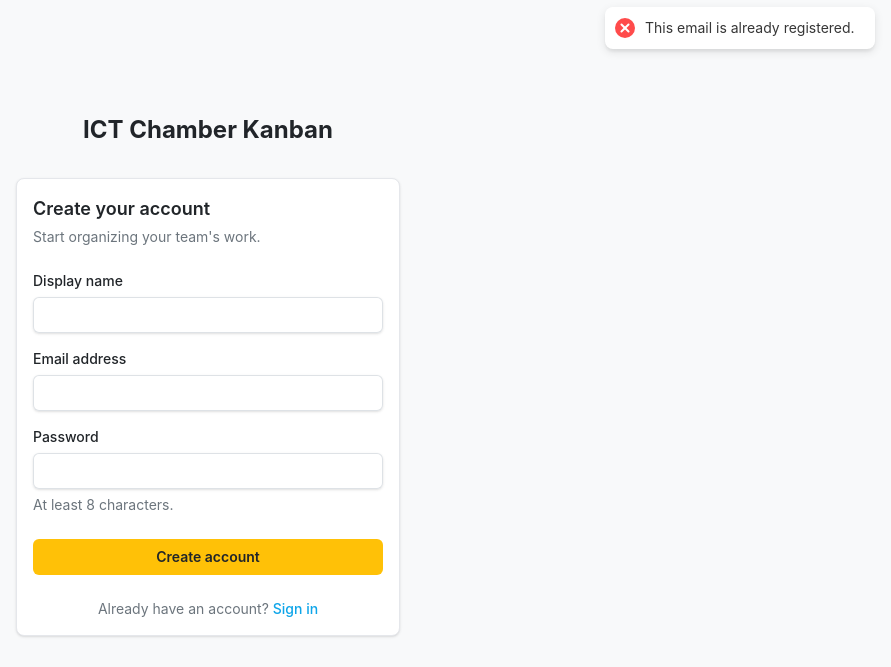
Test case: RegisterPage › shows a 422 field-level error next to the relevant input instead of a toast
Type "Jane Doe" into the field labelled "Display name" at {"x": 208, "y": 315}, box [33,297,383,333]
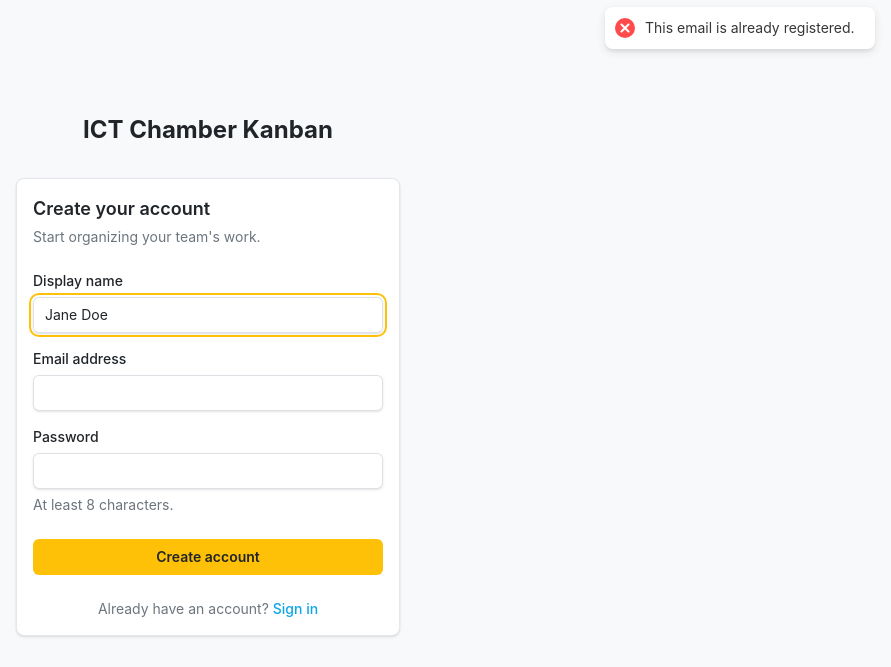
Type "jane@example.com" into the field labelled "Email address" at {"x": 208, "y": 393}, box [33,375,383,411]
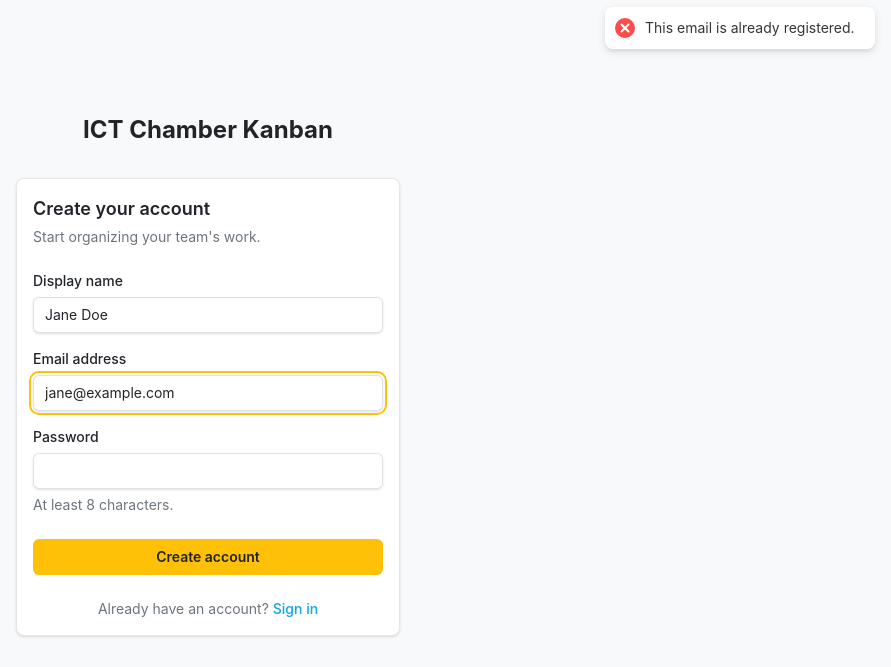
Type "at-least-8-characters" into the password field labelled "Password" at {"x": 208, "y": 471}, box [33,453,383,489]
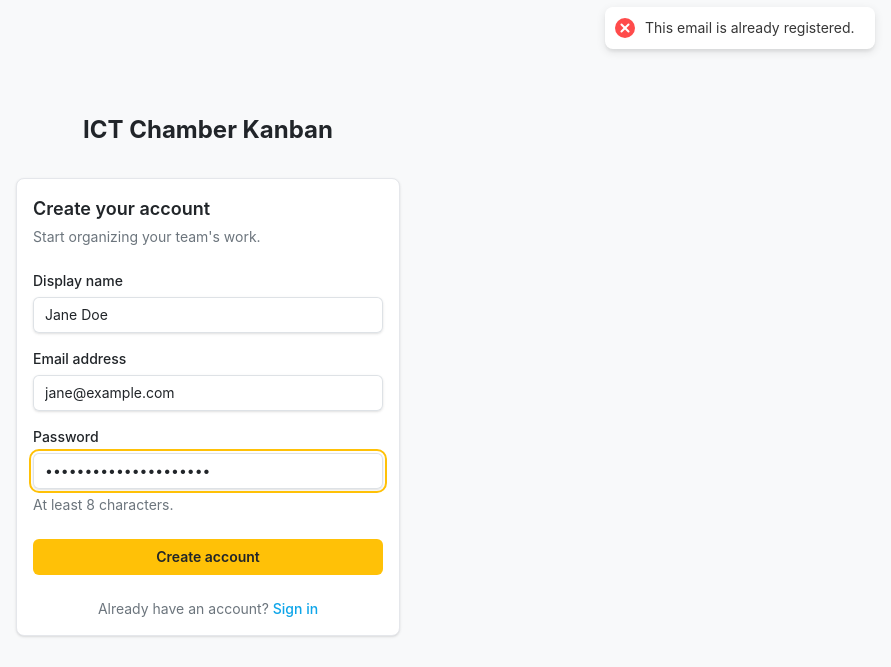
Click the button "Create account" at {"x": 208, "y": 557}, box [33,539,383,575]
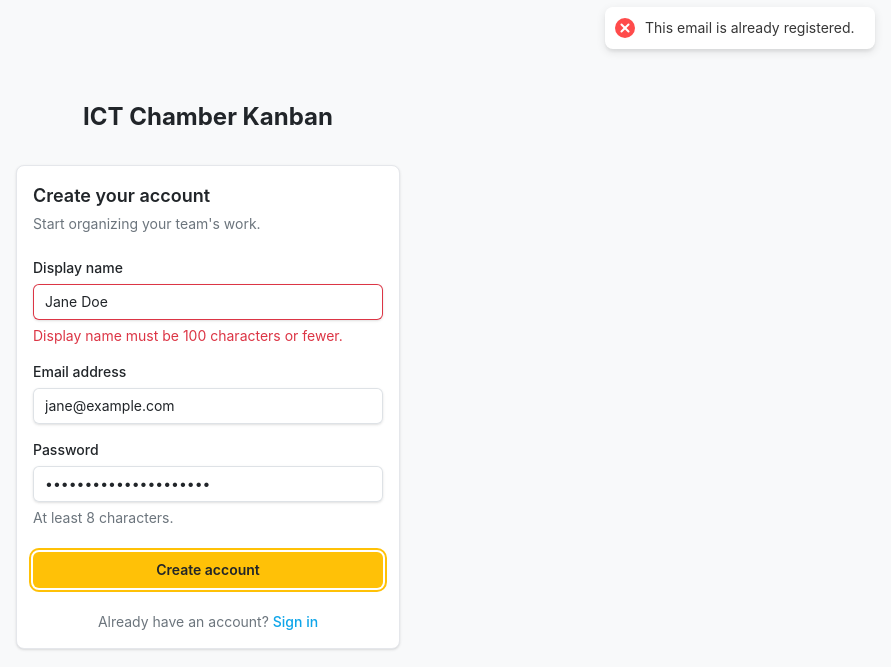
expect the text "Display name must be 100 characters or fewer." is shown: met, box [33,326,383,346]
